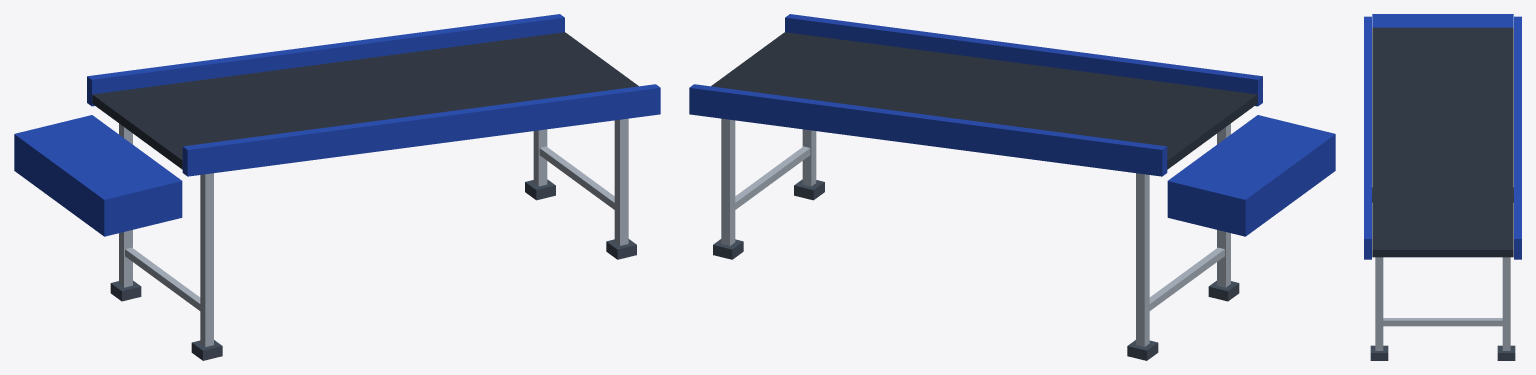
Rendered from SM_MPR_CADSupplyBelt_2E7F10.fbx.
3 renders of one model, left to right at view 1: azimuth 30°, elevation 25°; view 2: azimuth 150°, elevation 25°; view 3: azimuth 270°, elevation 25°, orthographic. The views are drawn at different scales.
Visible parts, largest first — view 1: SM_MPR_CADSupplyBelt_2E7F10; view 2: SM_MPR_CADSupplyBelt_2E7F10; view 3: SM_MPR_CADSupplyBelt_2E7F10.
Boxes of the visible parts, x1,y1,x2,y2 form: SM_MPR_CADSupplyBelt_2E7F10: (14, 14, 660, 360); SM_MPR_CADSupplyBelt_2E7F10: (689, 14, 1335, 360); SM_MPR_CADSupplyBelt_2E7F10: (1364, 14, 1521, 360).
Size of the model in its own units: 282 by 89.4 by 107.
